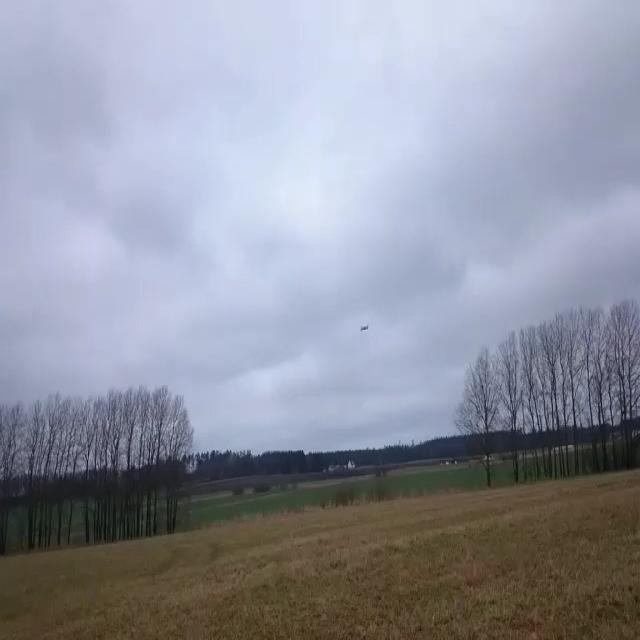drone: (360, 325, 369, 332)
